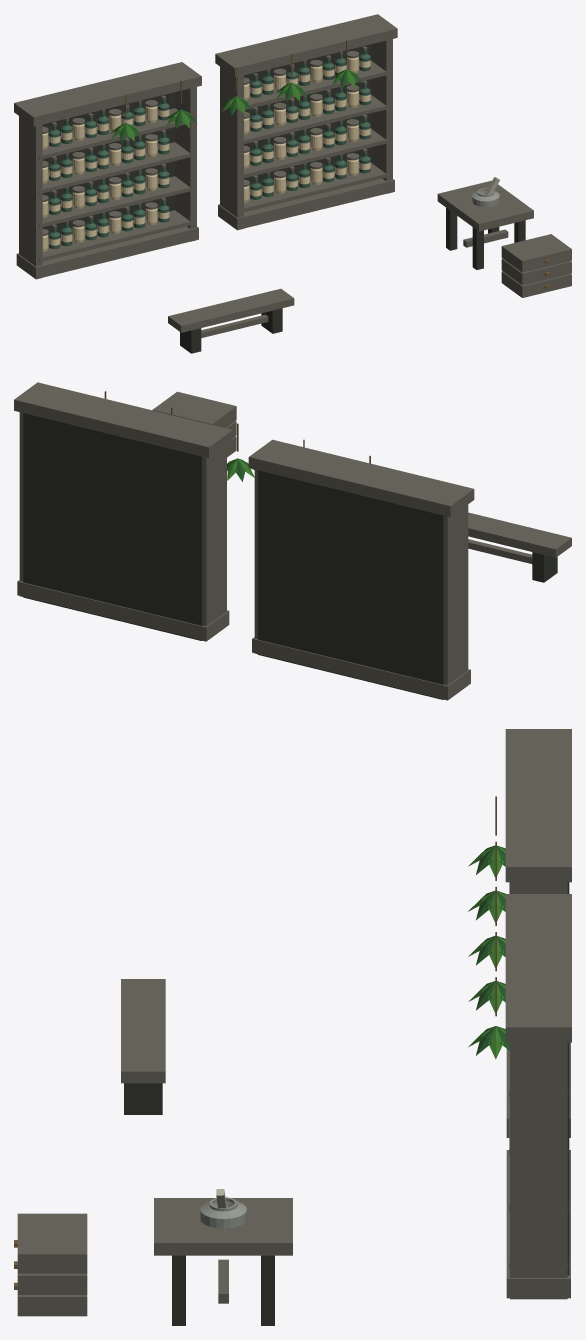
The model's file is village_apothecary_artifacts.glb.
3 views of the same model, one above another, from view 1: azimuth 30°, elevation 25°; view 2: azimuth 150°, elevation 25°; view 3: azimuth 270°, elevation 25° (orthographic). The views are drawn at different scales.
Parts seen in each view (by area): view 1: village_apothecary_artifacts; view 2: village_apothecary_artifacts; view 3: village_apothecary_artifacts.
Boxes of the visible parts, x1,y1,x2,y2 form: village_apothecary_artifacts: (14, 14, 571, 353); village_apothecary_artifacts: (14, 382, 571, 700); village_apothecary_artifacts: (14, 729, 571, 1325).
Bounding box in the file's own units: 7.17 × 2.9 × 5.22.
